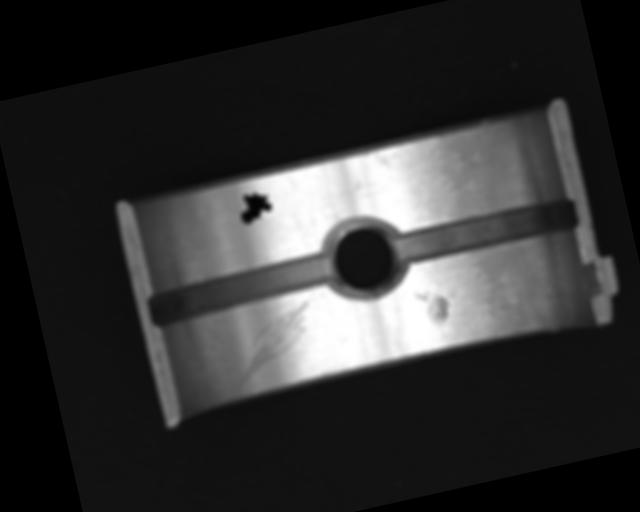blot: (235, 188, 275, 227)
bruise: (414, 284, 453, 326)
gap: (146, 250, 340, 328), (392, 196, 580, 267)
hole: (316, 211, 409, 304)
nick: (223, 301, 323, 392)
